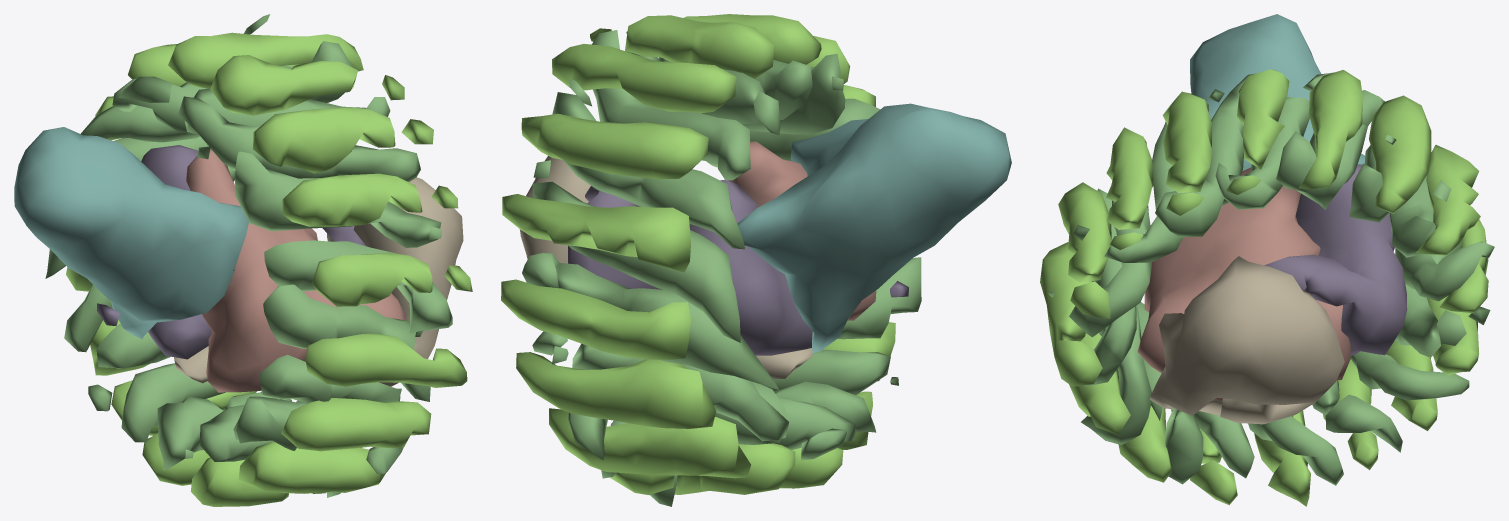
Rendered from 3wmo.dae.
3 renders of one model, left to right at view 1: azimuth 30°, elevation 25°; view 2: azimuth 150°, elevation 25°; view 3: azimuth 270°, elevation 25°, orthographic. The views are drawn at different scales.
Parts seen in each view (by area): view 1: subnode_0; view 2: subnode_0; view 3: subnode_0.
Boxes of the visible parts, box(x1,y1,x2,y2) form: subnode_0: box(14, 14, 472, 506); subnode_0: box(501, 14, 1011, 506); subnode_0: box(1040, 14, 1494, 506).
Bounding box in the file's own units: 120 × 115 × 117.
